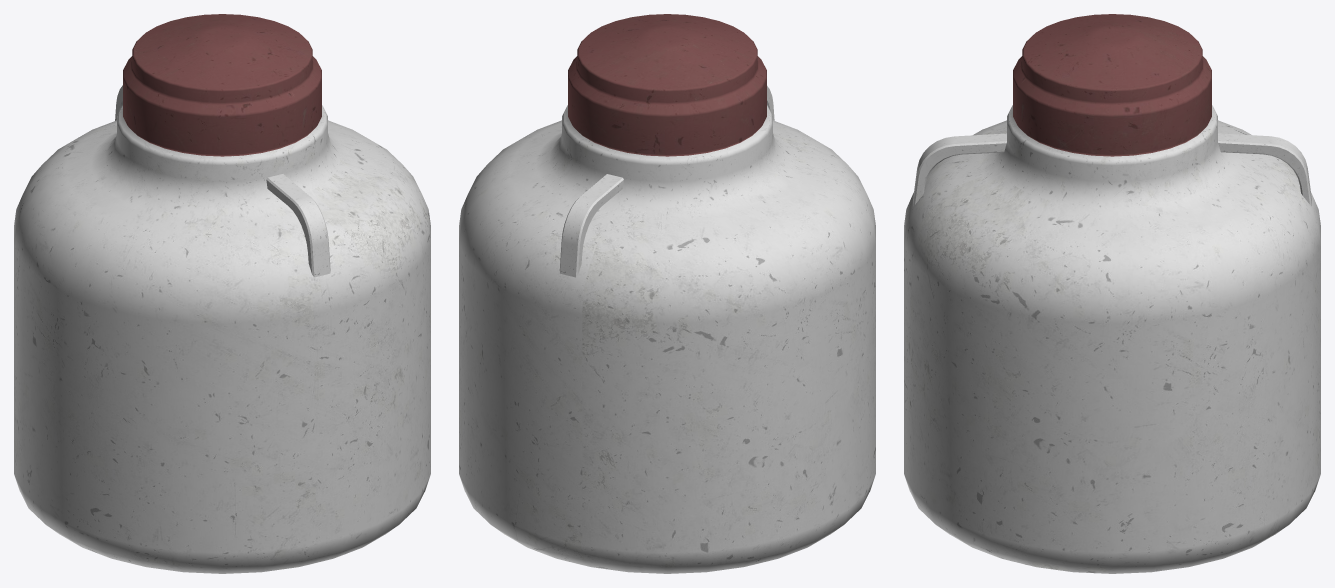
Rendered from SM_Bottle_Fat.glb.
3 renders of one model, left to right at view 1: azimuth 30°, elevation 25°; view 2: azimuth 150°, elevation 25°; view 3: azimuth 270°, elevation 25°, orthographic.
Parts seen in each view (by area): view 1: SM_Bottle_Fat; view 2: SM_Bottle_Fat; view 3: SM_Bottle_Fat.
Part boxes in pixels (x1=…): SM_Bottle_Fat: x1=14, y1=14, x2=430, y2=573; SM_Bottle_Fat: x1=459, y1=14, x2=875, y2=573; SM_Bottle_Fat: x1=904, y1=14, x2=1320, y2=573.
Size of the model in its own units: 0.2525 by 0.3076 by 0.2511.
2 materials, 2 textured.
